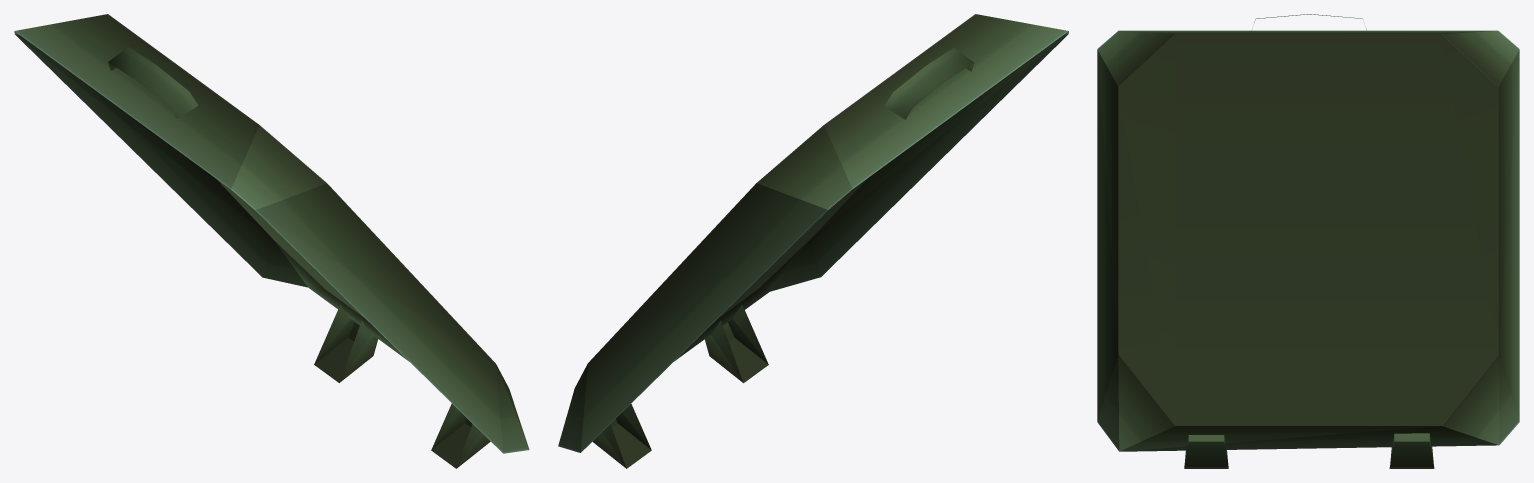
Rendered from recyclelid_open.obj.
The picture shows the model from 3 angles, left to right: view 1: azimuth 30°, elevation 25°; view 2: azimuth 150°, elevation 25°; view 3: azimuth 270°, elevation 25°; orthographic projection. The views are drawn at different scales.
Size of the model in its own units: 1.56 by 1.95 by 2.09.
